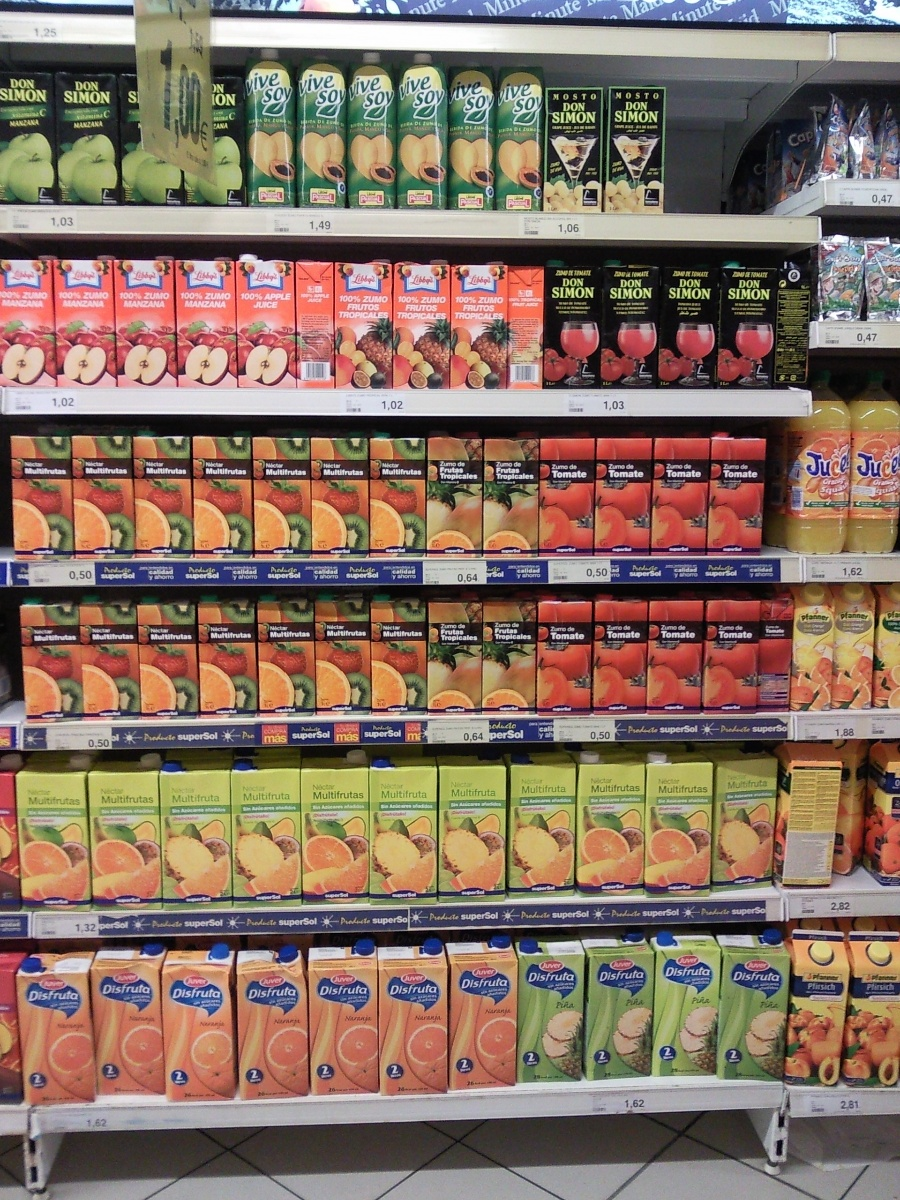juice: (156, 940, 254, 1109), (84, 941, 180, 1112), (17, 951, 111, 1117), (229, 941, 319, 1113), (302, 935, 393, 1102), (369, 936, 459, 1104), (82, 756, 174, 914), (444, 930, 528, 1103), (11, 757, 98, 920), (428, 750, 517, 909), (358, 750, 445, 912), (224, 755, 313, 912), (501, 751, 587, 908), (713, 929, 796, 1091), (155, 757, 238, 918), (516, 930, 597, 1092), (574, 933, 658, 1089), (301, 751, 382, 912), (638, 749, 723, 899), (648, 930, 728, 1087), (572, 746, 654, 899), (438, 258, 523, 402), (12, 592, 100, 731), (829, 928, 900, 1097), (229, 256, 308, 399), (784, 928, 851, 1096), (108, 251, 181, 404), (72, 589, 151, 725), (382, 256, 456, 399), (46, 252, 117, 400), (637, 589, 712, 728), (644, 426, 719, 562), (332, 252, 400, 402), (250, 591, 326, 725), (195, 586, 266, 729), (170, 255, 238, 399), (590, 428, 661, 563), (700, 428, 772, 560), (135, 592, 207, 723), (532, 433, 602, 566), (591, 588, 656, 731), (530, 592, 602, 720), (700, 591, 769, 723)
